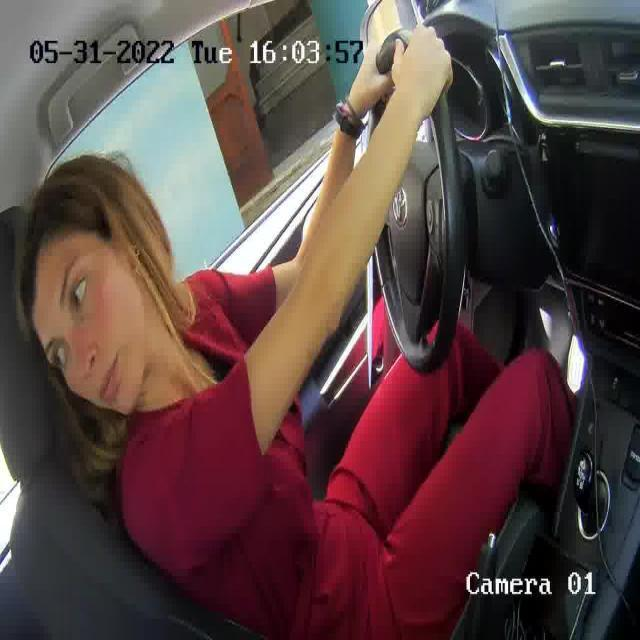Eye-Open: (47, 338, 71, 368), (68, 278, 92, 307)
Inattentive: (22, 155, 171, 416)
Normal: (95, 351, 126, 404)
